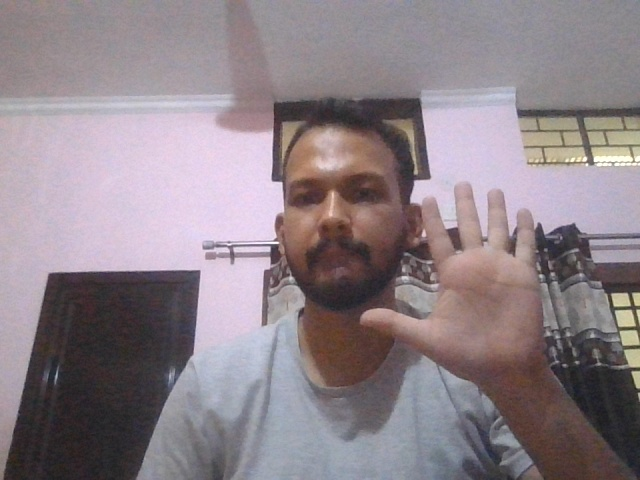hello: (360, 180, 545, 382)
